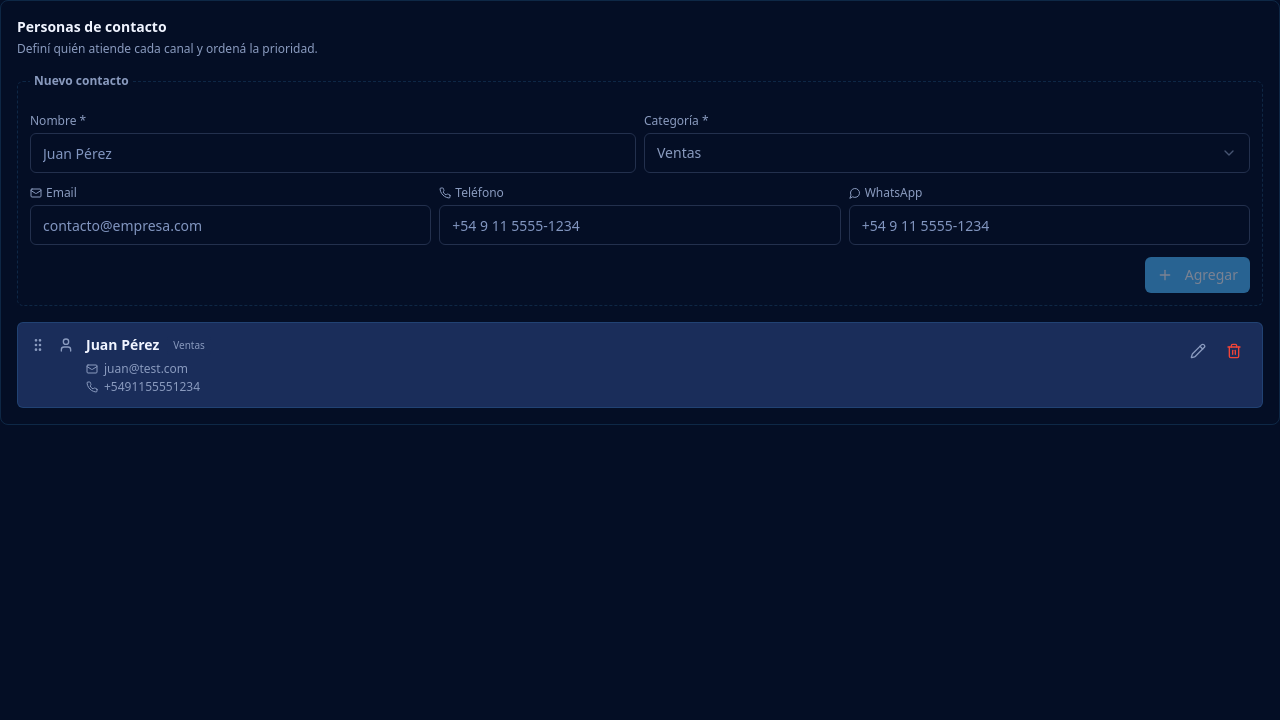
ContactManager › clicking Edit transforms the card into an inline editable form
This screenshot has width=1280, height=720.
Click the button named "editar contacto": x=1198, y=351 x1=1182 y1=335 x2=1214 y2=367
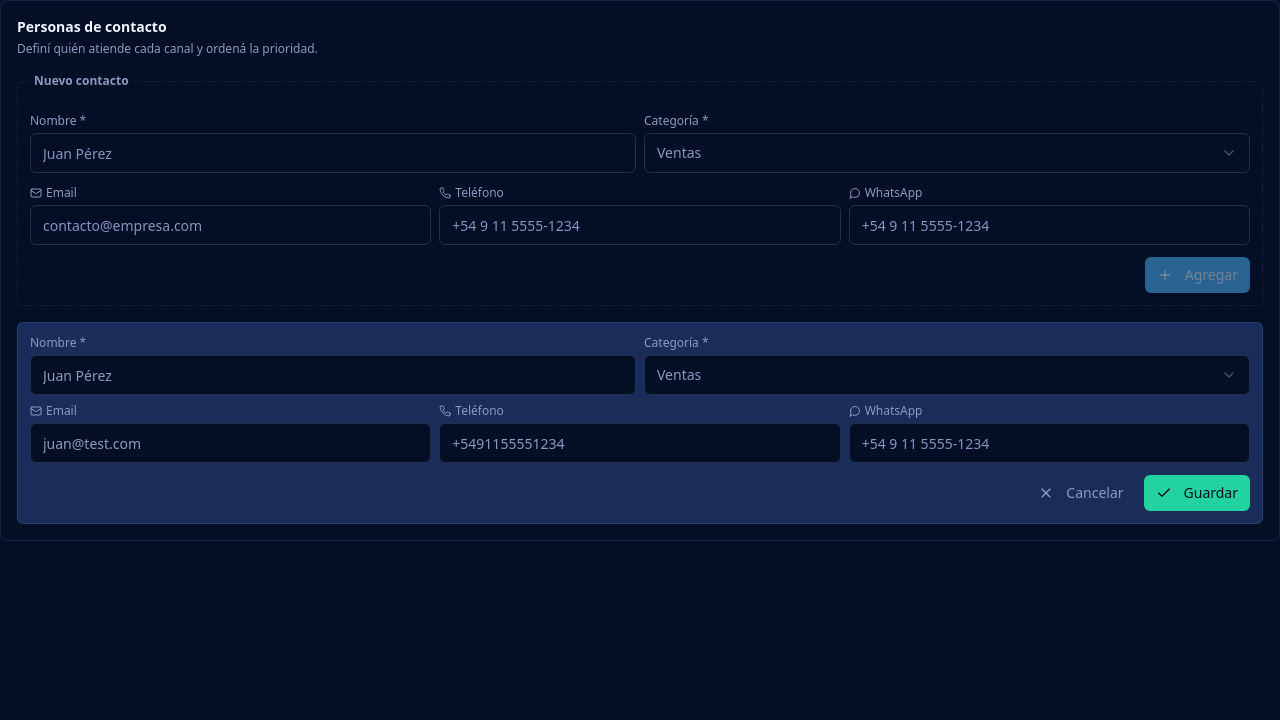
Expected: the 2nd field showing "Juan Pérez" is shown, x1=30 y1=355 x2=636 y2=395
